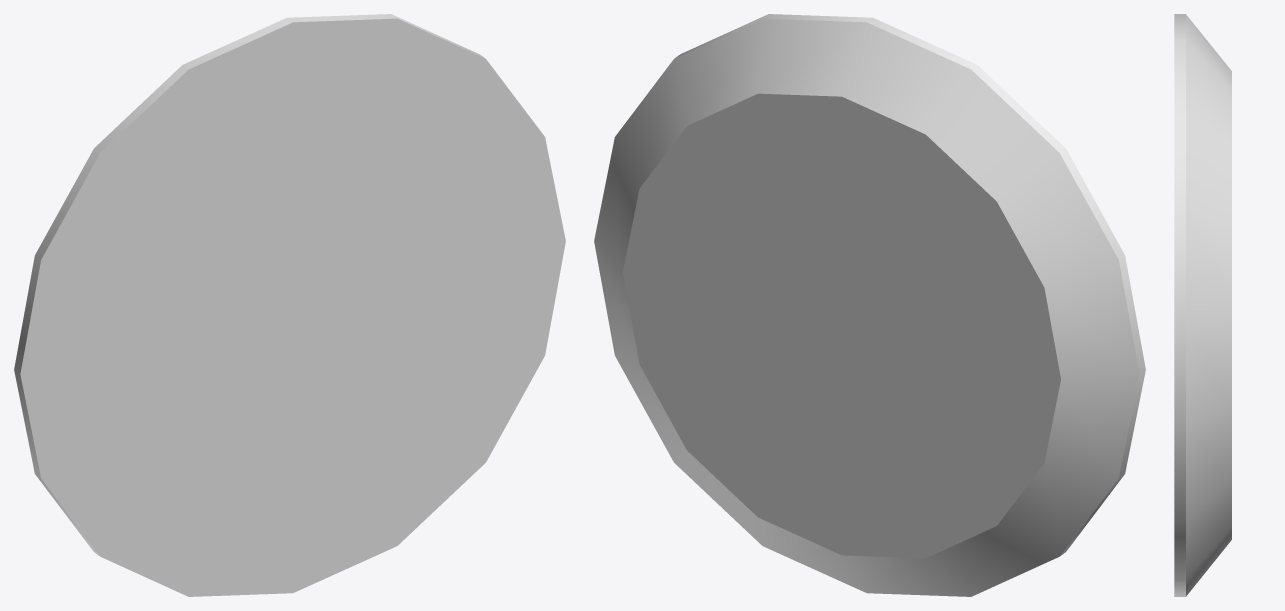
Rendered from But_Mini_1X1_on.FBX.
3 views of the same model, side by side, from view 1: azimuth 30°, elevation 25°; view 2: azimuth 150°, elevation 25°; view 3: azimuth 270°, elevation 25° (orthographic). The views are drawn at different scales.
Parts seen in each view (by area): view 1: Box001; view 2: Box001; view 3: Box001.
Boxes of the visible parts, box(x1,y1,x2,y2) form: Box001: box(14, 14, 565, 596); Box001: box(594, 14, 1145, 596); Box001: box(1174, 14, 1231, 596).
Bounding box in the file's own units: 0.5 × 0.5 × 0.0827.
